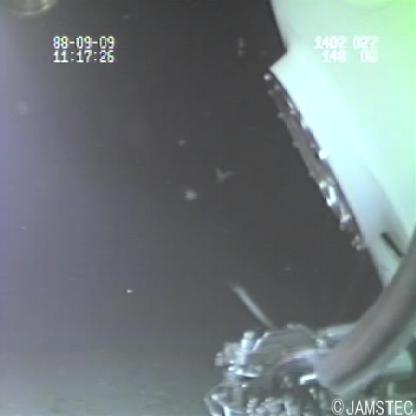Bio: (299, 223, 416, 404)
Rov: (260, 1, 416, 256), (199, 320, 416, 414)
